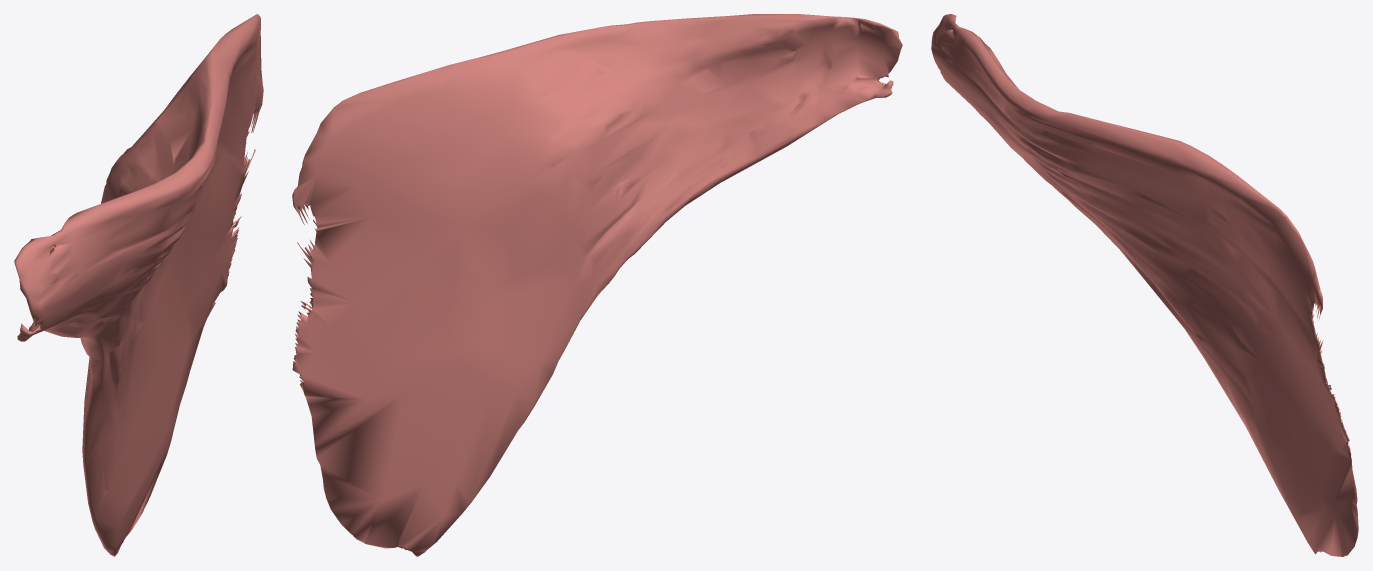
3 views of the same model, side by side, from view 1: azimuth 30°, elevation 25°; view 2: azimuth 150°, elevation 25°; view 3: azimuth 270°, elevation 25° (orthographic). The views are drawn at different scales.
Visible parts, largest first — view 1: ZA_bb19dc35992bc59a; view 2: ZA_bb19dc35992bc59a; view 3: ZA_bb19dc35992bc59a.
Part boxes in pixels (left/top/right/bottom): ZA_bb19dc35992bc59a: left=14, top=14, right=263, bottom=556; ZA_bb19dc35992bc59a: left=292, top=14, right=902, bottom=556; ZA_bb19dc35992bc59a: left=931, top=14, right=1358, bottom=556.
Size of the model in its own units: 0.105 by 0.1146 by 0.105.
